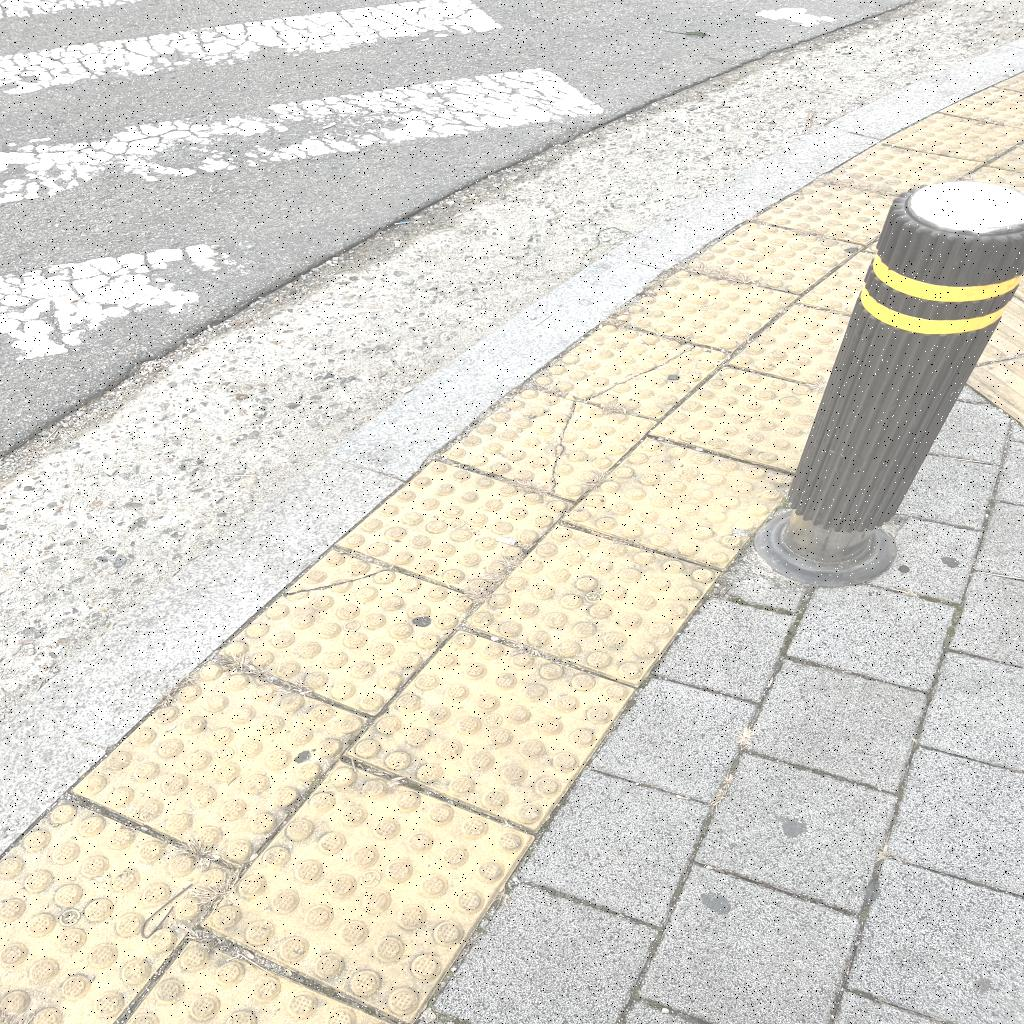Stop block broken: (443, 374, 657, 513), (529, 307, 730, 433)
Stop block normal: (465, 510, 719, 698)
